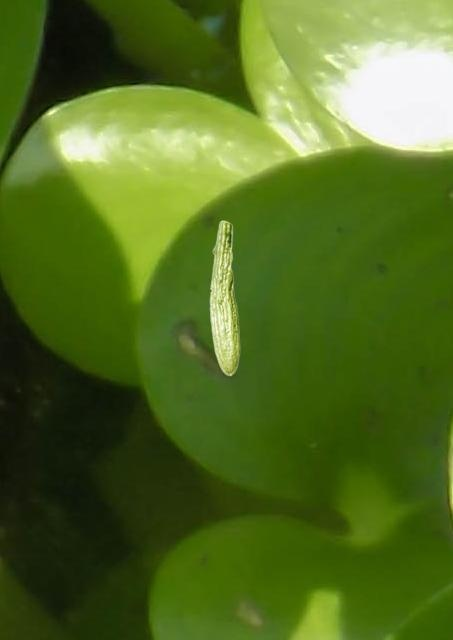ampalaya: (208, 220, 240, 376)
